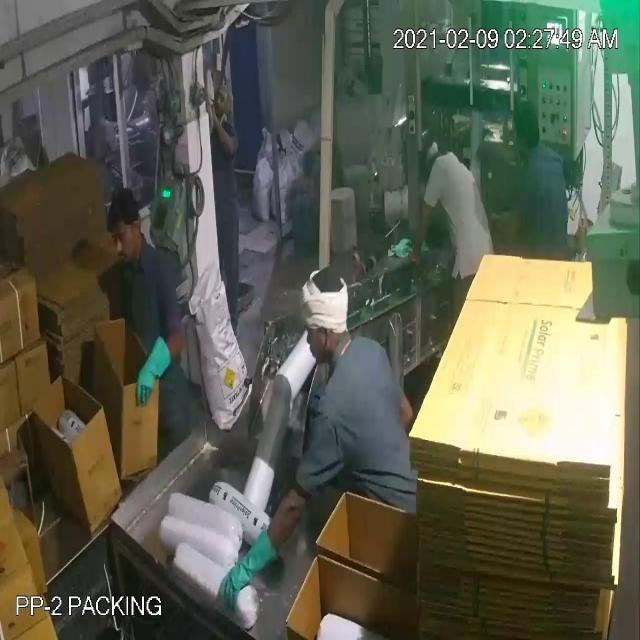Gloves: (22, 61, 422, 570)
